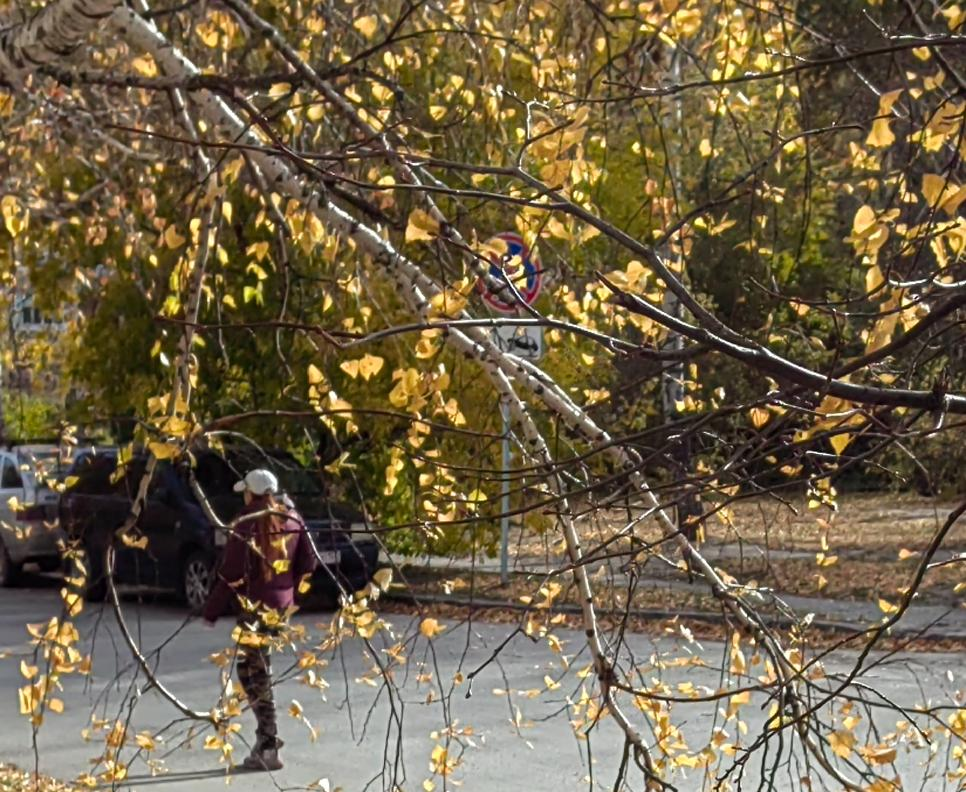obstructed_road_sign: (471, 233, 543, 312), (485, 325, 541, 356)
